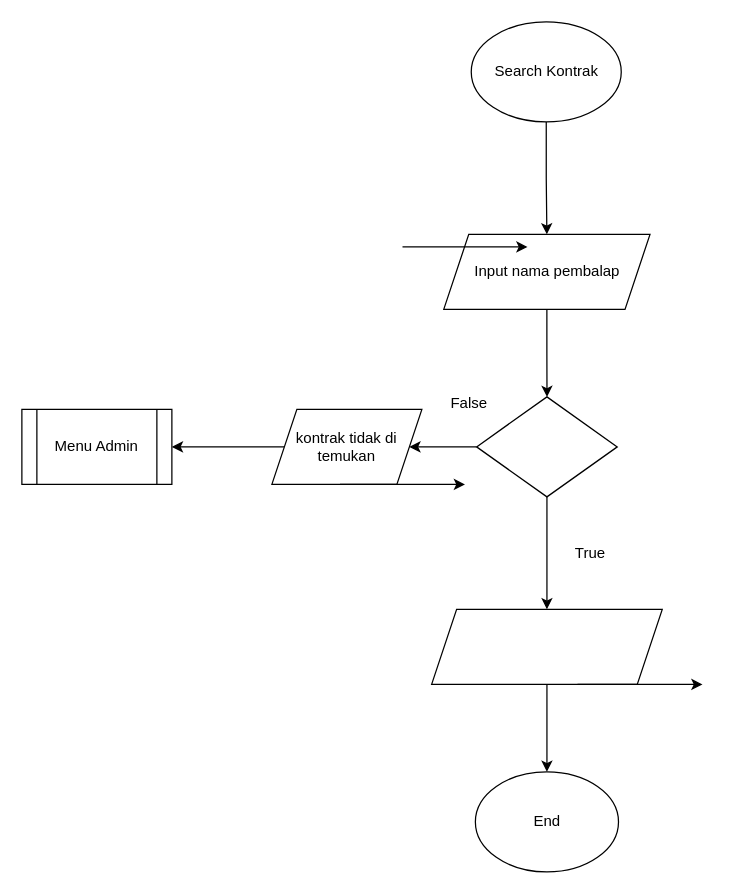
Some shapes in this 735 by 894 pixel diagram are drawn without their labels. The shapes that lost their labels are listed below. From the top down, each one's centre as x and y in pixels, then its label:
the point at 546,446: If kontrak in list
the point at 546,646: Kontrak x di temukan
